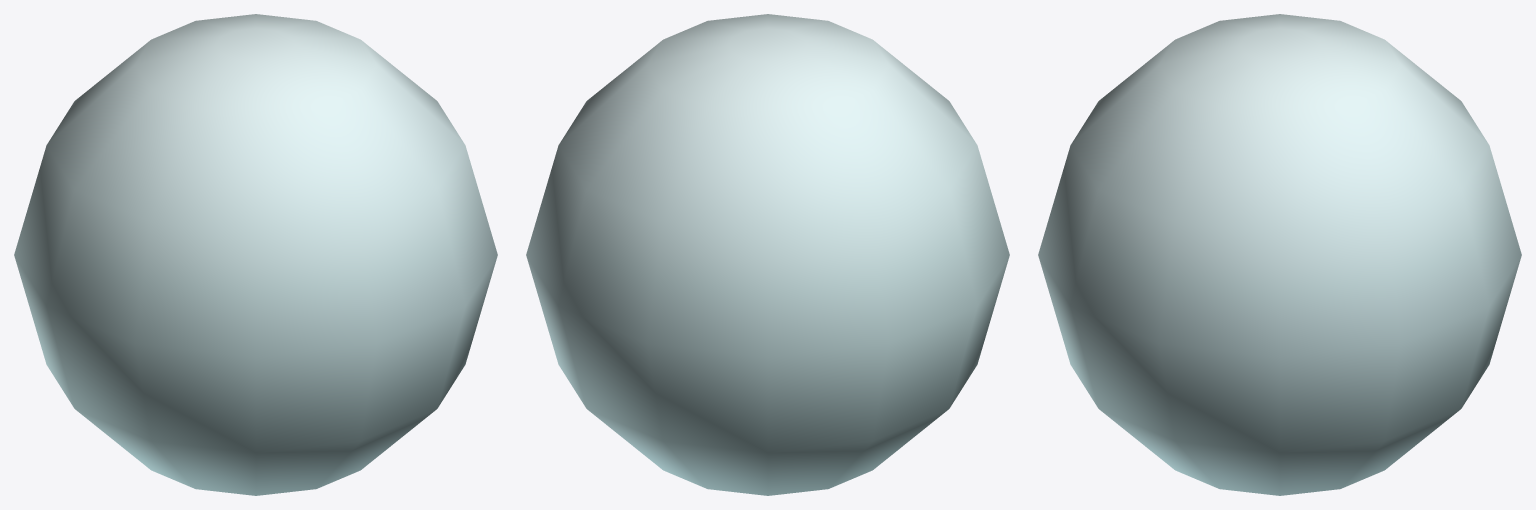
File: Volleyball_F.fbx
The picture shows the model from 3 angles, left to right: view 1: azimuth 30°, elevation 25°; view 2: azimuth 150°, elevation 25°; view 3: azimuth 270°, elevation 25°; orthographic projection.
Parts seen in each view (by area): view 1: Volleyball_F; view 2: Volleyball_F; view 3: Volleyball_F.
Part boxes in pixels (box(x1,y1,x2,y2)): Volleyball_F: box(14, 14, 497, 495); Volleyball_F: box(526, 14, 1009, 495); Volleyball_F: box(1038, 14, 1521, 495).
Bounding box in the file's own units: 33.6 × 32.1 × 33.6.
